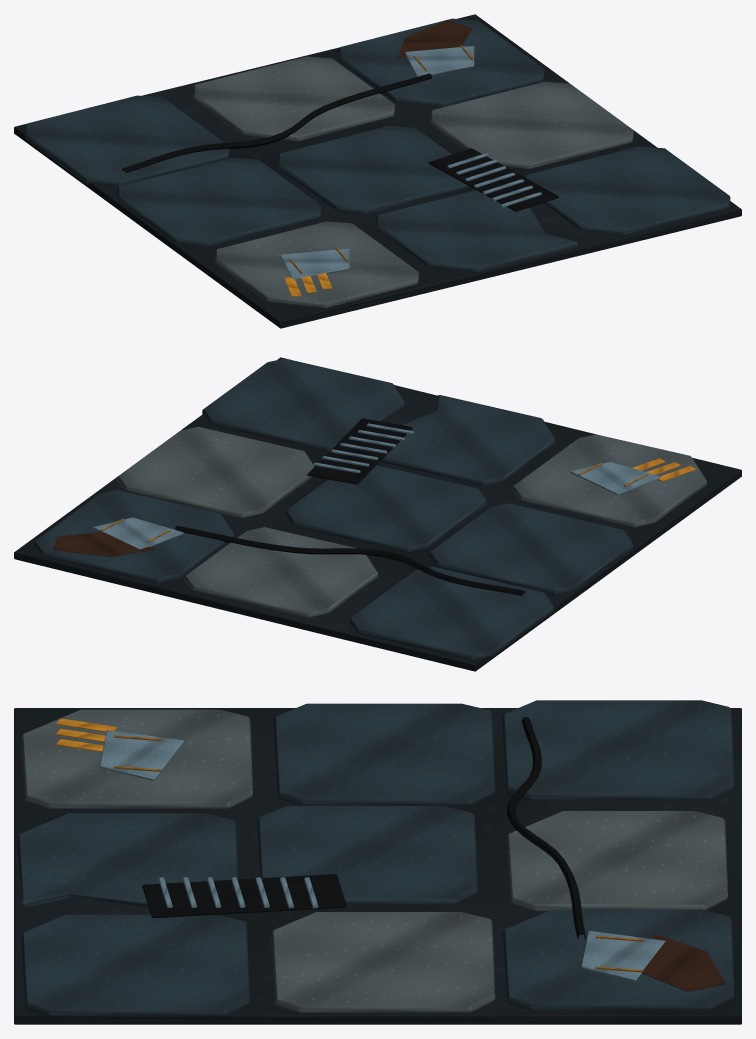
Rendered from Deck_V2_0.fbx.
3 renders of one model, top to bottom at view 1: azimuth 30°, elevation 25°; view 2: azimuth 150°, elevation 25°; view 3: azimuth 270°, elevation 25°, orthographic. The views are drawn at different scales.
Visible parts, largest first — view 1: Deck_V2_0; view 2: Deck_V2_0; view 3: Deck_V2_0.
Boxes of the visible parts, <box> form: Deck_V2_0: <box>14,14,741,328</box>; Deck_V2_0: <box>14,357,741,671</box>; Deck_V2_0: <box>14,700,741,1024</box>.
Size of the model in its own units: 6.06 by 0.214 by 6.
